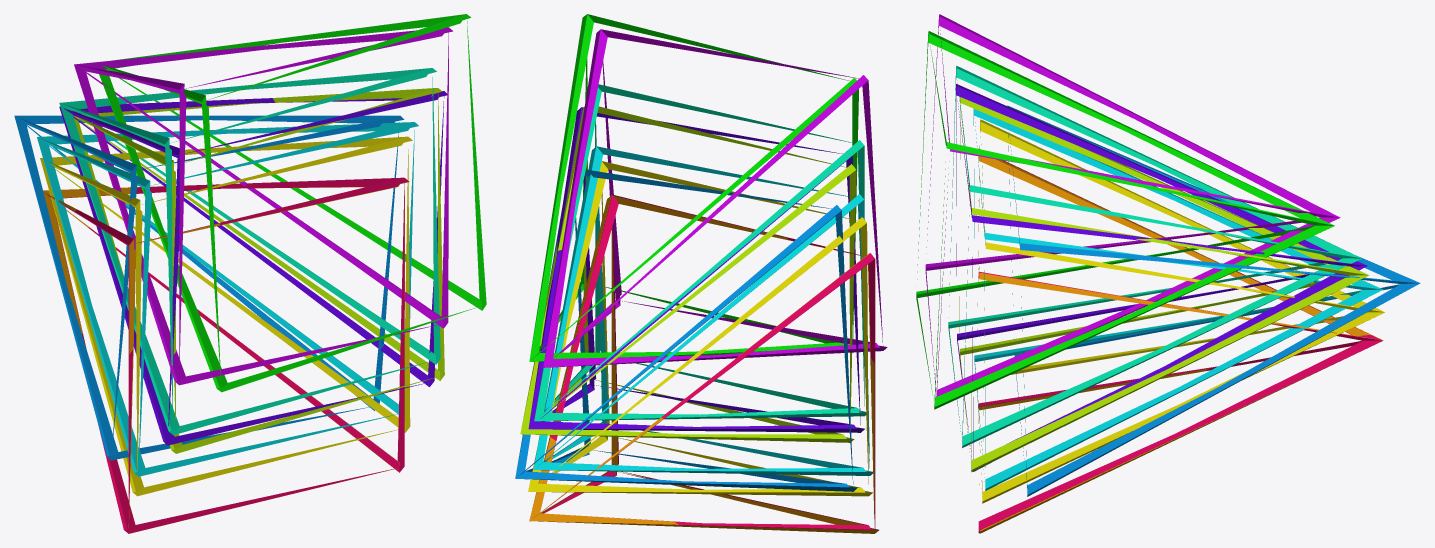
File: glbscene_59.4_All_maskbFalse_maskwFalse_camTrue_skyFalse_predDepthmap_and_Camera_Branch.glb
3 renders of one model, left to right at view 1: azimuth 30°, elevation 25°; view 2: azimuth 150°, elevation 25°; view 3: azimuth 270°, elevation 25°, orthographic. The views are drawn at different scales.
Visible parts, largest first — view 1: world; view 2: world; view 3: world.
Boxes of the visible parts, x1,y1,x2,y2 form: world: (14,14,486,533); world: (515,14,887,533); world: (916,14,1420,533).
Bounding box in the file's own units: 0.0976 × 0.1278 × 0.1405.
